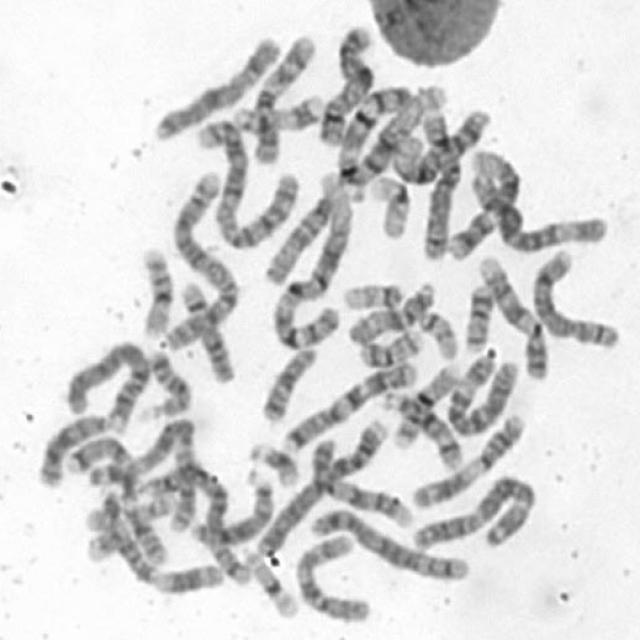A1: (266, 166, 354, 352), (327, 75, 451, 198)
A2: (160, 164, 240, 367), (190, 110, 302, 252)
A3: (84, 412, 203, 538), (403, 467, 540, 553)
B4: (247, 410, 392, 559), (62, 333, 153, 431)
B5: (139, 459, 254, 588), (304, 502, 472, 584)
C10: (248, 28, 319, 166), (288, 528, 374, 625)
C11: (100, 496, 228, 597), (404, 406, 526, 510)
C12: (440, 142, 523, 263), (386, 101, 492, 186)
C6: (466, 162, 612, 252), (440, 347, 520, 437)
C7: (274, 356, 419, 454), (72, 441, 168, 565)
C8: (528, 243, 623, 351), (414, 99, 462, 263)
C9: (307, 430, 418, 530), (473, 246, 555, 381)
D13: (31, 404, 117, 490), (185, 468, 277, 548)
D14: (377, 385, 465, 472), (174, 275, 235, 385)
D15: (259, 180, 350, 288), (340, 274, 439, 348)
E16: (386, 356, 465, 452), (134, 240, 177, 338)
E17: (106, 486, 179, 564), (227, 87, 327, 135)
E18: (256, 341, 320, 424), (136, 344, 196, 422)
F19: (237, 541, 302, 621), (365, 169, 414, 242)
F20: (354, 322, 425, 369), (460, 278, 497, 354)
G21: (243, 435, 302, 489), (79, 490, 121, 532)
G22: (413, 304, 461, 362), (339, 276, 407, 312)
X: (147, 28, 285, 144), (314, 18, 378, 148)
